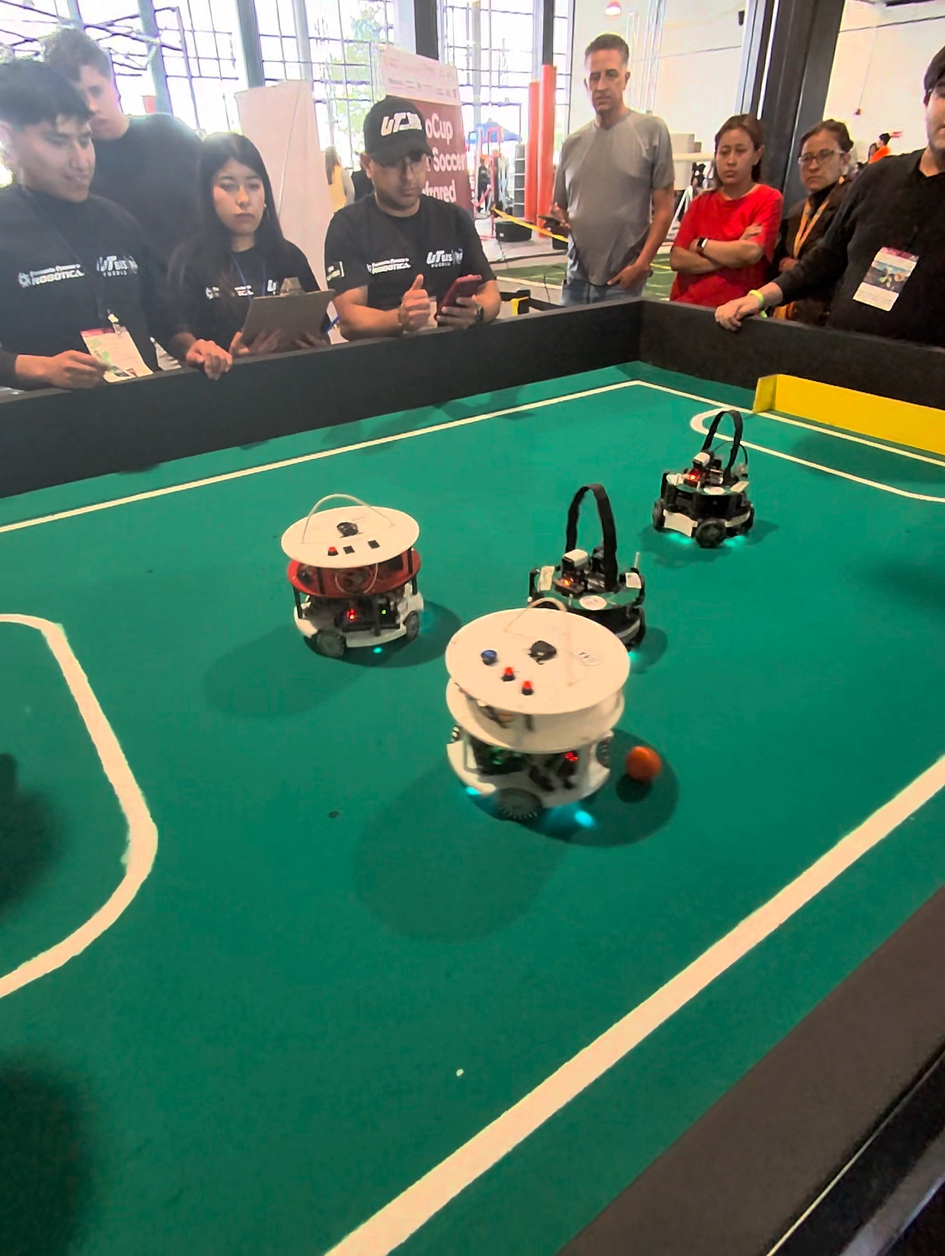Robot: (438, 567, 655, 848), (275, 478, 429, 674), (541, 474, 651, 650), (654, 400, 760, 561)
pelota: (622, 751, 664, 791)
